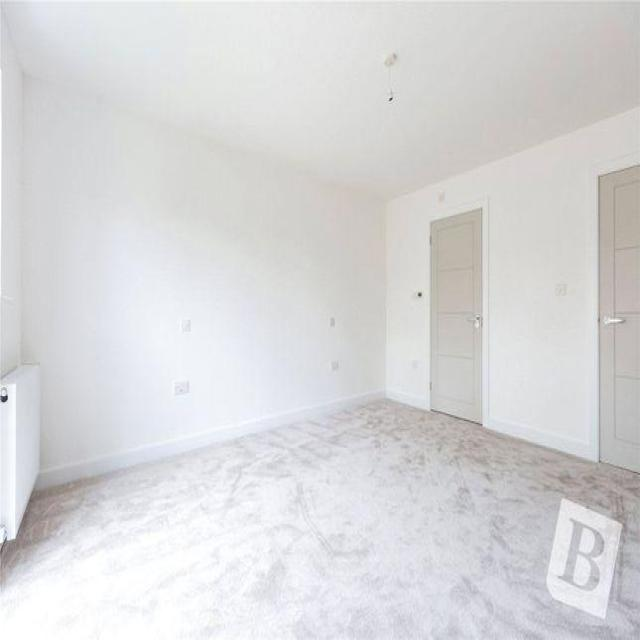Wall: (0, 401, 639, 637), (24, 81, 384, 472), (6, 2, 640, 196), (387, 107, 640, 460), (36, 299, 384, 487), (557, 454, 640, 638), (292, 5, 529, 59), (1, 6, 24, 378), (166, 309, 201, 378), (328, 330, 340, 357)
